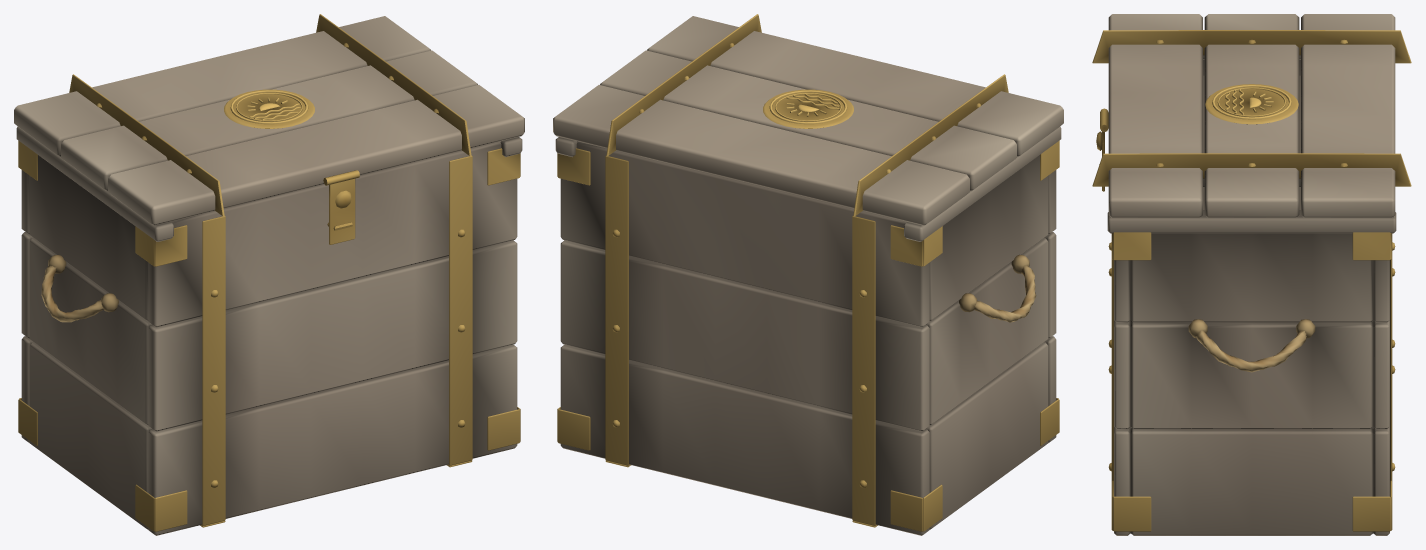
File: cargo-chest.cbabc0a9.glb
3 renders of one model, left to right at view 1: azimuth 30°, elevation 25°; view 2: azimuth 150°, elevation 25°; view 3: azimuth 270°, elevation 25°, orthographic. The views are drawn at different scales.
Parts seen in each view (by area): view 1: cargo_chest, lid, latch; view 2: cargo_chest, lid; view 3: cargo_chest, lid, latch.
Part boxes in pixels (x1,y1,x2,y2): cargo_chest: (18, 140, 520, 535); lid: (14, 14, 524, 241); latch: (323, 170, 359, 244); cargo_chest: (557, 140, 1059, 535); lid: (553, 14, 1063, 241); cargo_chest: (1099, 60, 1395, 535); lid: (1092, 14, 1411, 233); latch: (1096, 108, 1108, 191).
Bounding box in the file's own units: 0.6685 × 0.512 × 0.416.
